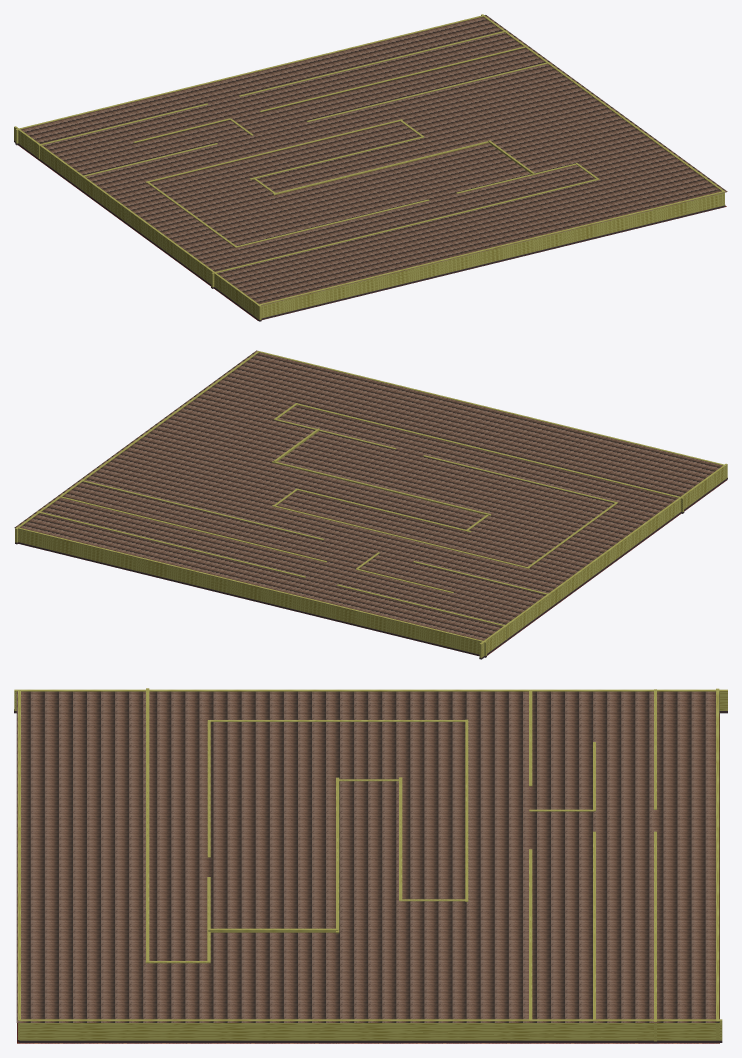
The model's file is leveloneao.glb.
The picture shows the model from 3 angles, top to bottom: view 1: azimuth 30°, elevation 25°; view 2: azimuth 150°, elevation 25°; view 3: azimuth 270°, elevation 25°; orthographic projection. The views are drawn at different scales.
Visible parts, largest first — view 1: Plane.001, Cube.034, Cube.096, Cube.050, Cube.082, Cube.106, Plane, Cube.023, Cube.067, Cube.060, Cube.017, Cube.080; view 2: Plane.001, Cube.050, Cube.096, Cube.034, Cube.082, Cube.106, Cube.023, Cube.067, Cube.017, Cube.060, Cube.080; view 3: Plane.001, Cube.106, Cube.096, Cube.050, Cube.082, Cube.034, Plane, Cube.017, Cube.080, Cube.112, Cube.023, Cube.060.
Boxes of the visible parts, x1,y1,x2,y2 form: Plane.001: (21, 15, 727, 305); Cube.034: (257, 191, 724, 320); Cube.096: (14, 126, 261, 321); Cube.050: (15, 15, 485, 145); Cube.082: (211, 179, 597, 288); Cube.106: (481, 14, 725, 205); Plane: (18, 145, 726, 320); Cube.023: (273, 141, 491, 195); Cube.067: (259, 46, 525, 111); Cube.060: (239, 31, 505, 96); Cube.017: (146, 119, 402, 182); Cube.080: (306, 62, 548, 121); Plane.001: (14, 350, 722, 641); Cube.050: (16, 527, 486, 657); Cube.096: (479, 463, 727, 659); Cube.034: (258, 351, 726, 480); Cube.082: (297, 403, 684, 513); Cube.106: (15, 351, 258, 544); Cube.023: (272, 461, 491, 515); Cube.067: (60, 496, 326, 562); Cube.017: (272, 505, 529, 568); Cube.060: (40, 513, 305, 577); Cube.080: (81, 480, 324, 539); Plane.001: (16, 691, 719, 1022); Cube.106: (19, 1019, 722, 1042); Cube.096: (14, 689, 727, 713); Cube.050: (715, 688, 719, 1042); Cube.082: (146, 688, 149, 960); Cube.034: (17, 690, 20, 1042); Plane: (17, 713, 719, 1043); Cube.017: (465, 719, 468, 901); Cube.080: (529, 849, 532, 1020); Cube.112: (208, 928, 338, 932); Cube.023: (336, 777, 339, 933); Cube.060: (654, 831, 656, 1020).
Size of the model in its own units: 195 by 6.48 by 176.
Materials: 48 (25 with a texture image).
